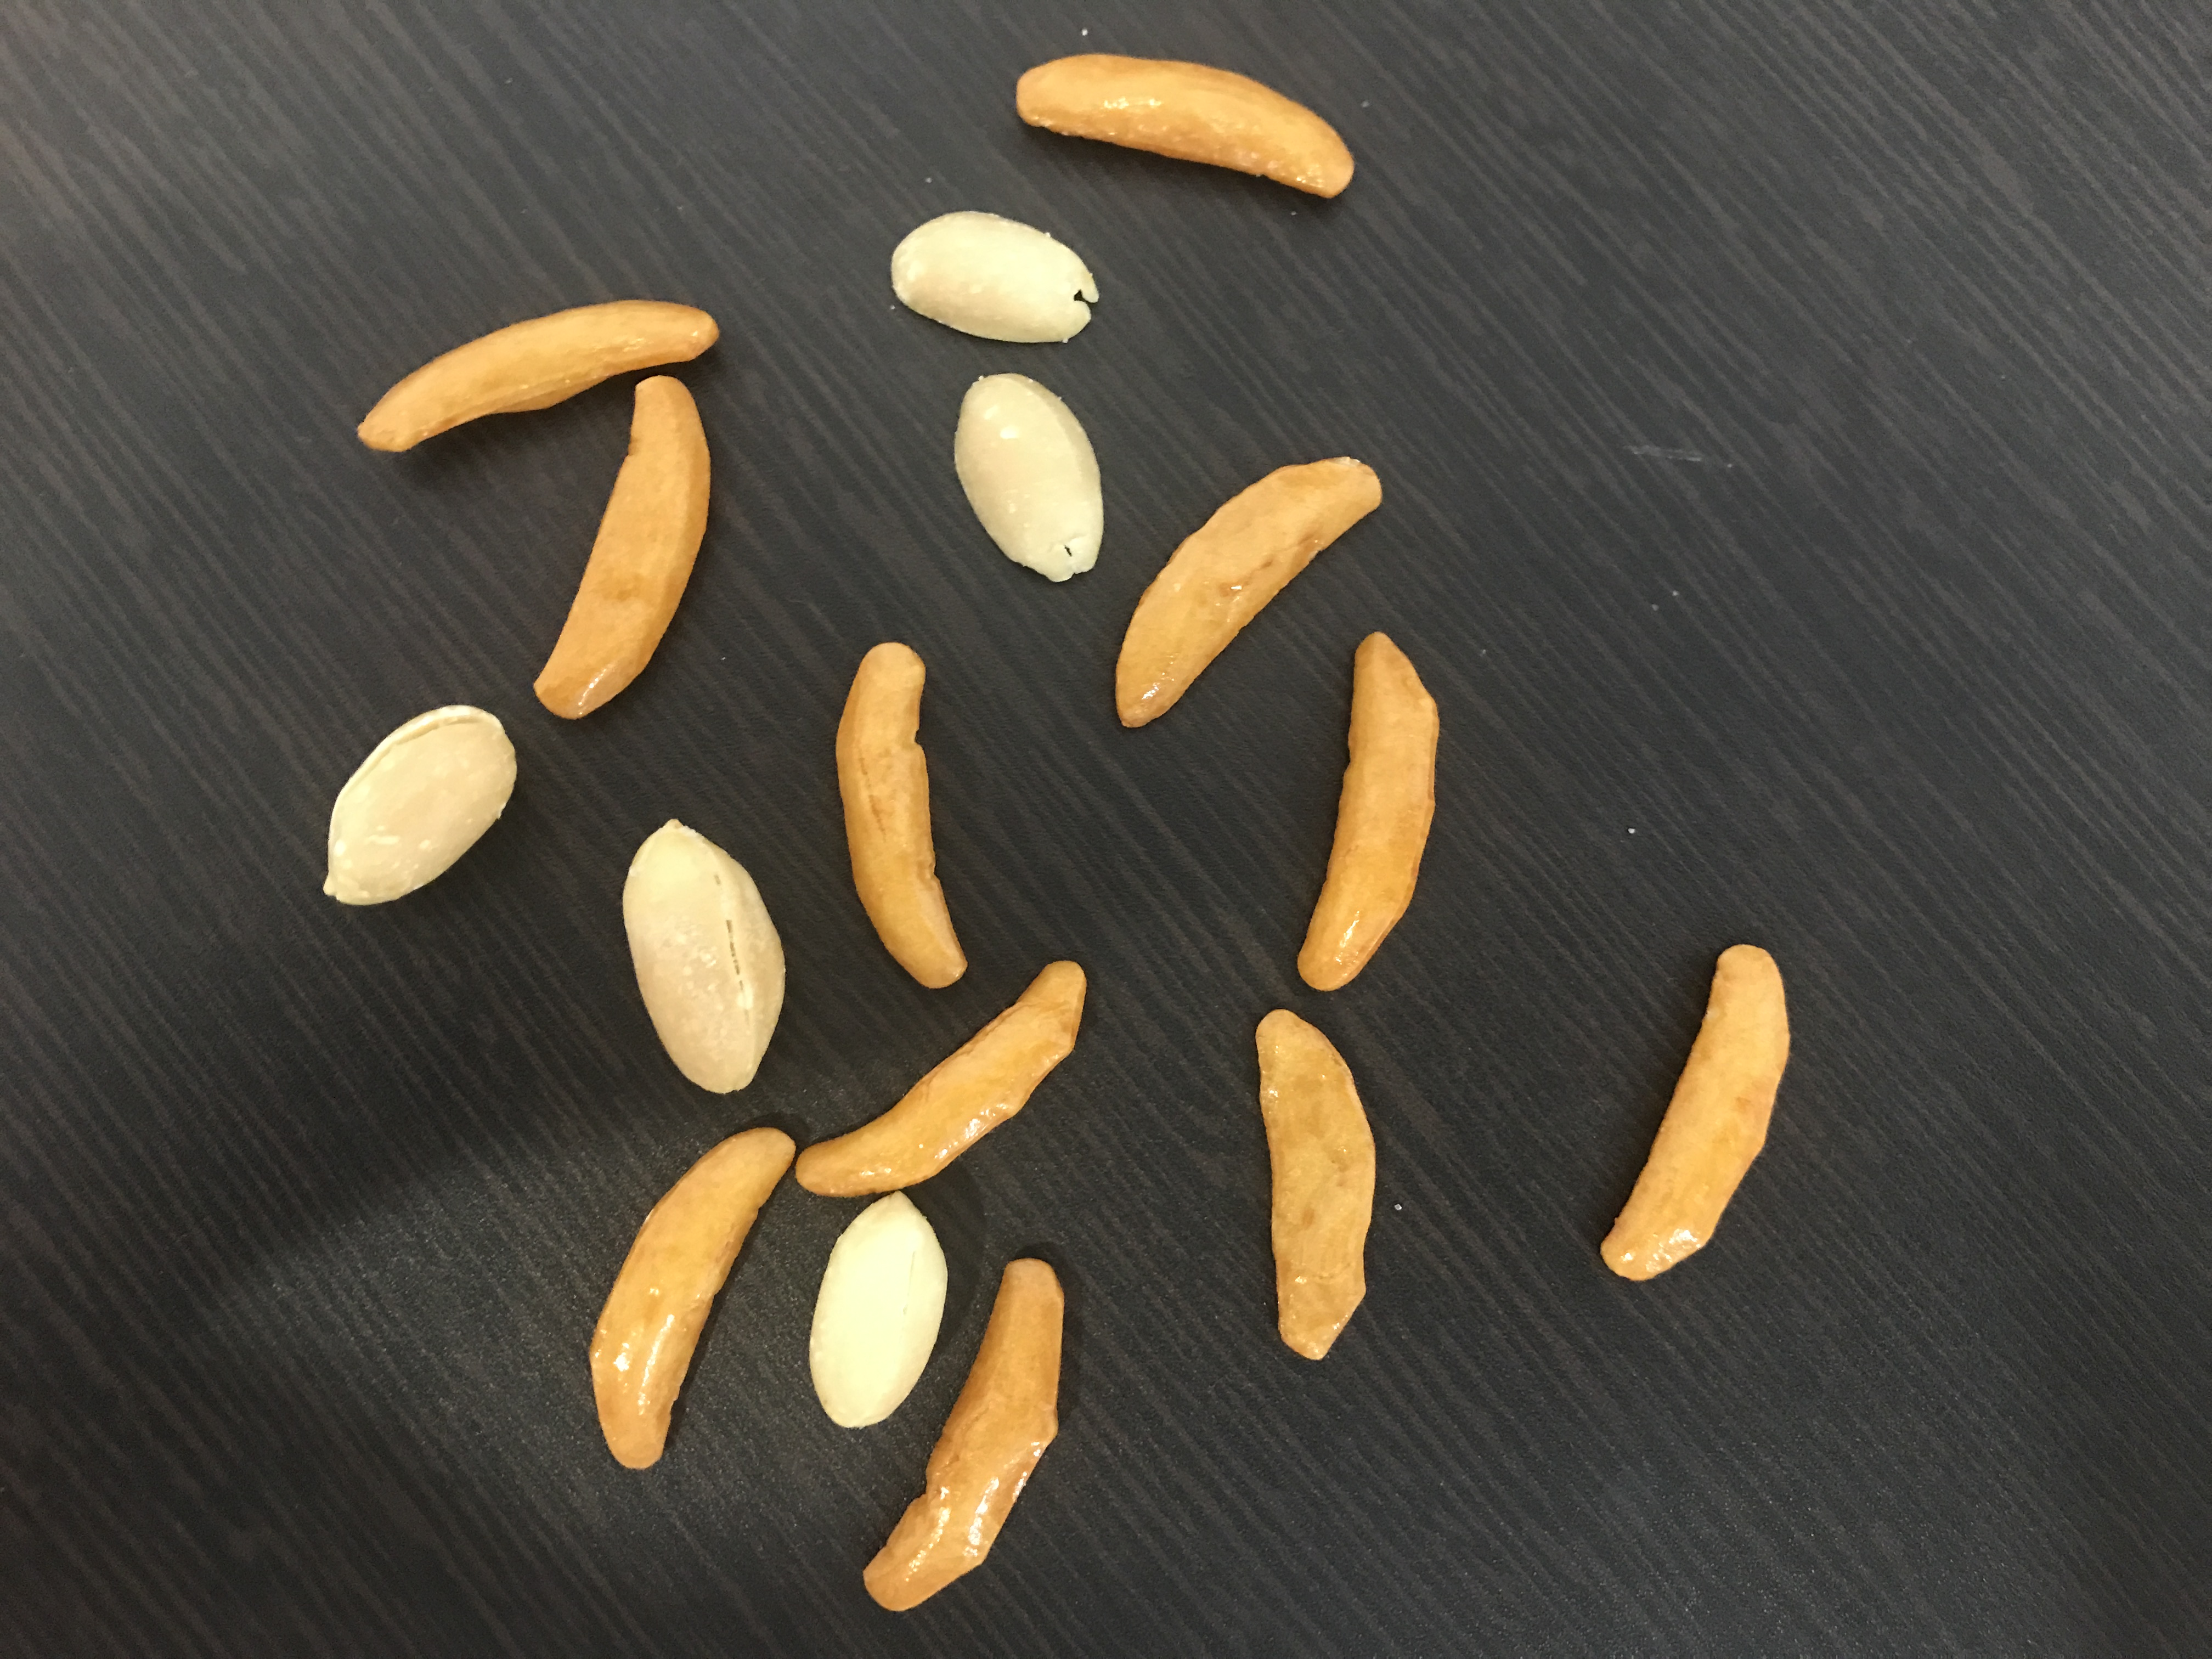peanut: (613, 812, 796, 1100), (315, 701, 523, 920), (806, 1194, 951, 1436), (953, 362, 1104, 584), (880, 206, 1109, 349)
